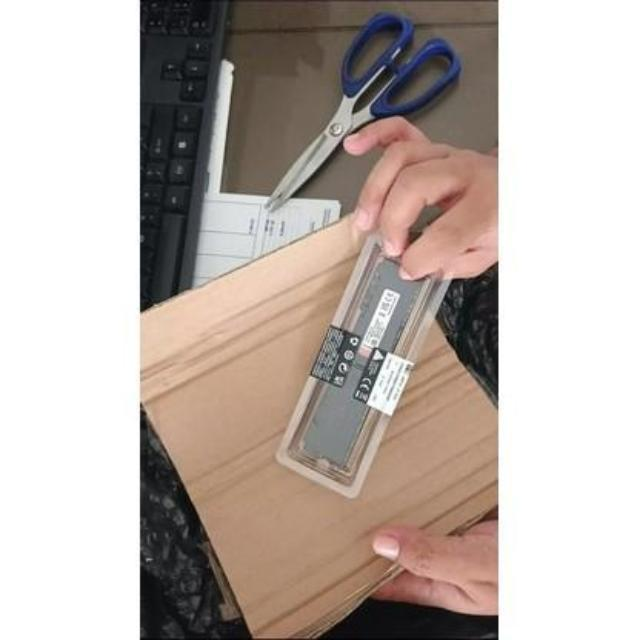RAM: (285, 236, 437, 487)
